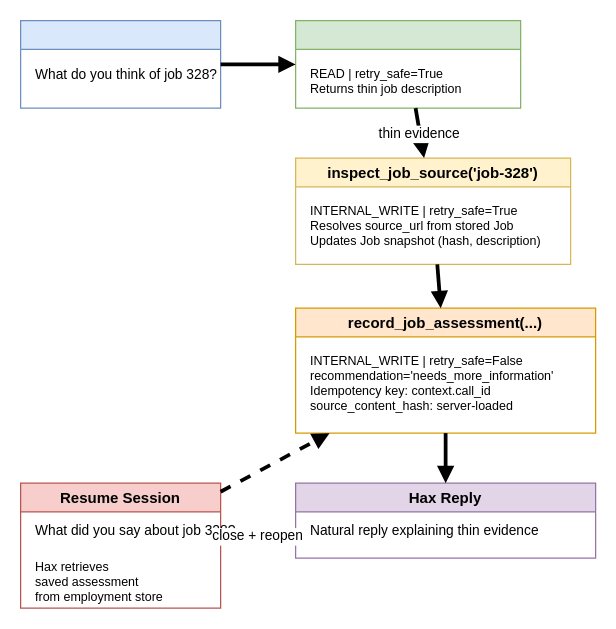
Some shapes in this 616 by 629 pixel diagram are drawn without their labels. The box of each missing label's shape, as (x1, y1, x2, y2) in pixels:
get_job('job-328'): (294, 19, 521, 108)
User: (19, 19, 221, 108)
